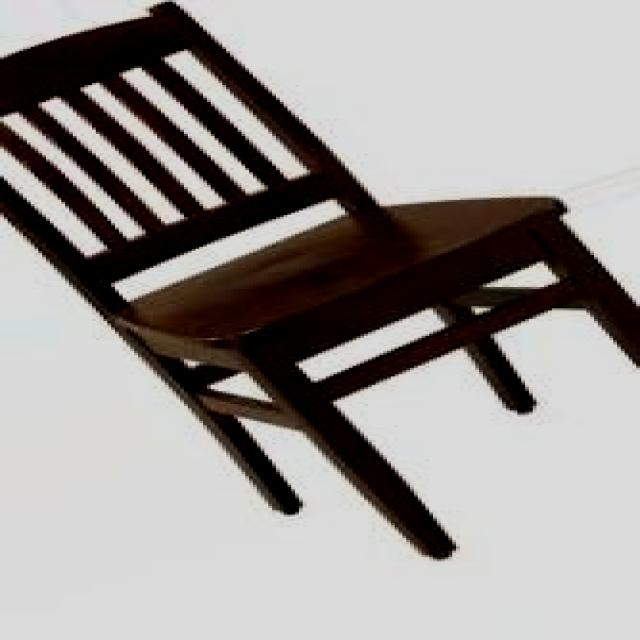Chair: (5, 3, 637, 571)
